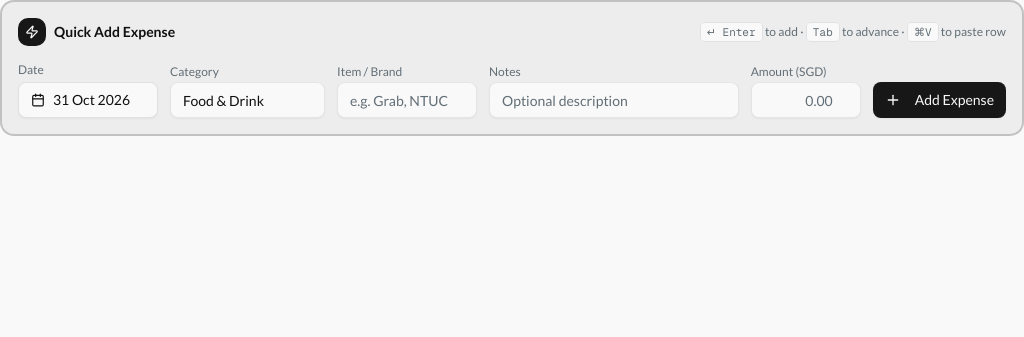
Test: keeps rapid independent manual entries usable while previous saves remain pending
The width and height of the screenshot is (1024, 337).
Type "12" into the number field with placeholder "0.00". click: (806, 100)
box: [751,82,861,118]
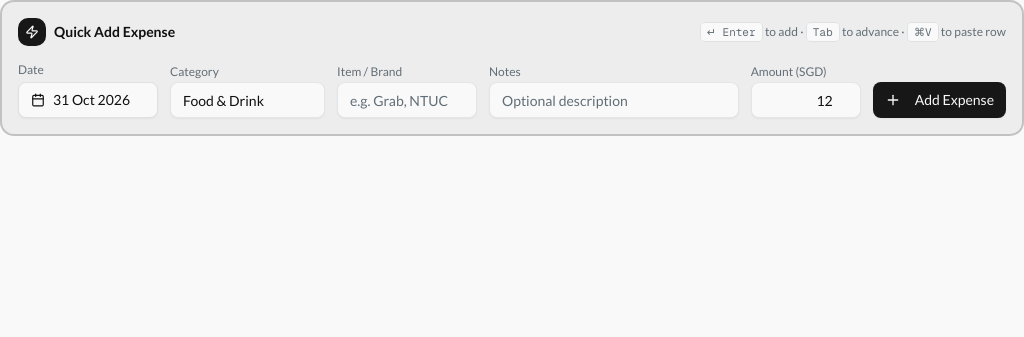
Press Enter in the number field with placeholder "0.00", box [751,82,861,118]
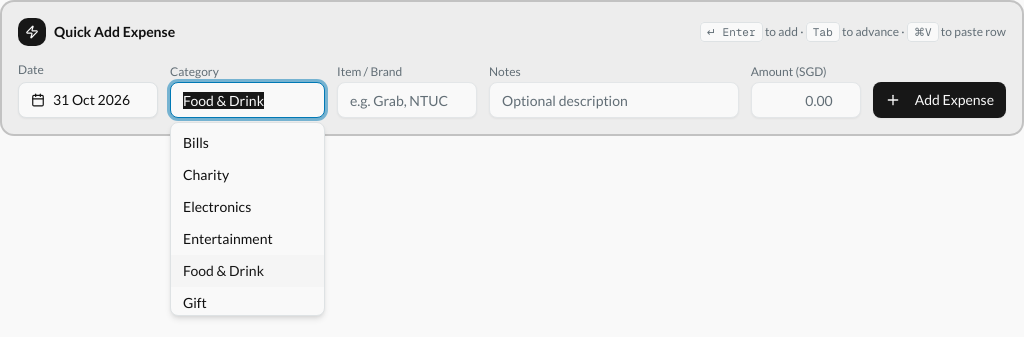
Press Enter
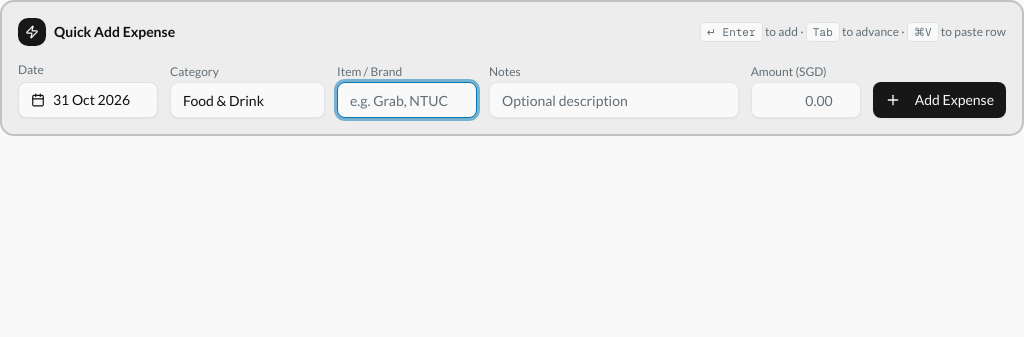
Type "13" into the number field with placeholder "0.00". click: (806, 100)
box: [751,82,861,118]
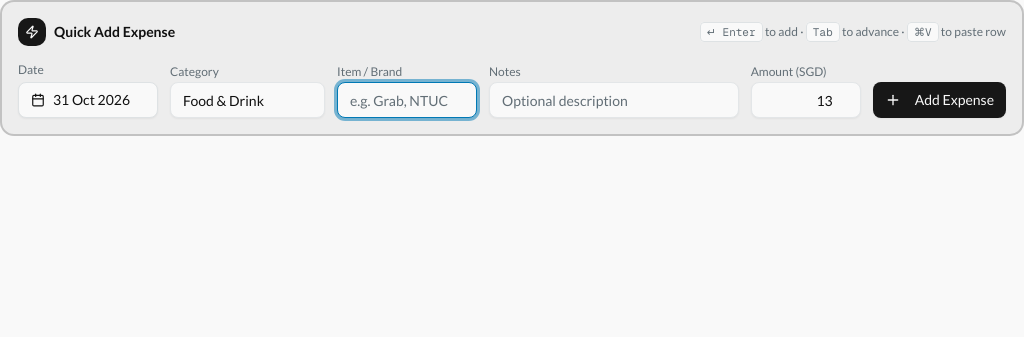
Press Enter in the number field with placeholder "0.00", box [751,82,861,118]
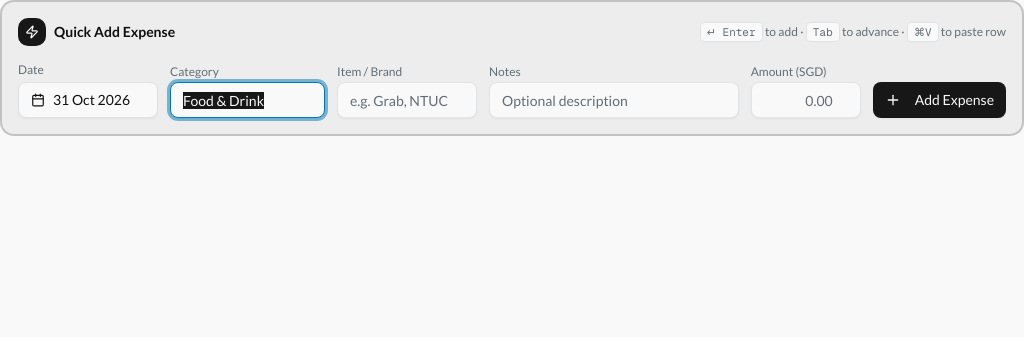
Now the number field with placeholder "0.00" is not empty, box [751,82,861,118]
